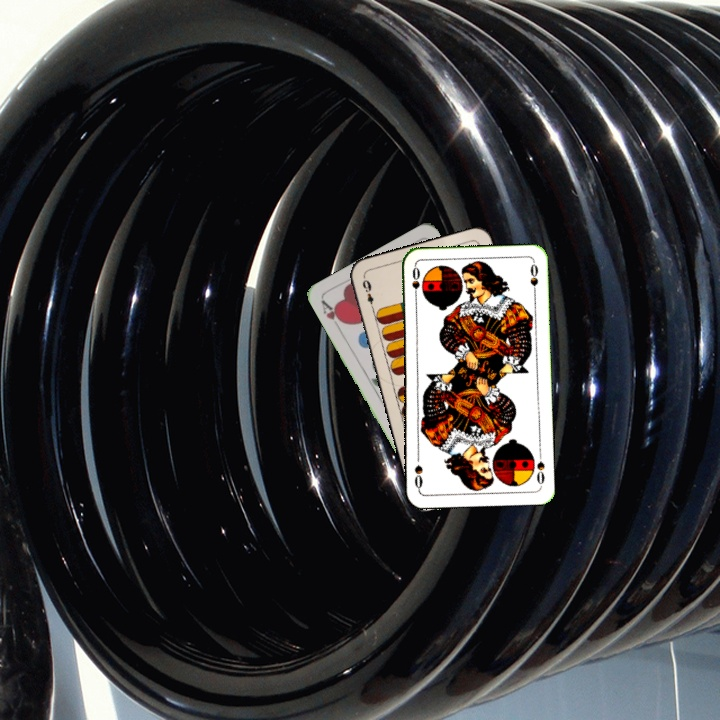E9: (358, 274, 377, 314)
HA: (317, 296, 347, 333)
SO: (532, 448, 547, 488), (408, 263, 422, 303)
